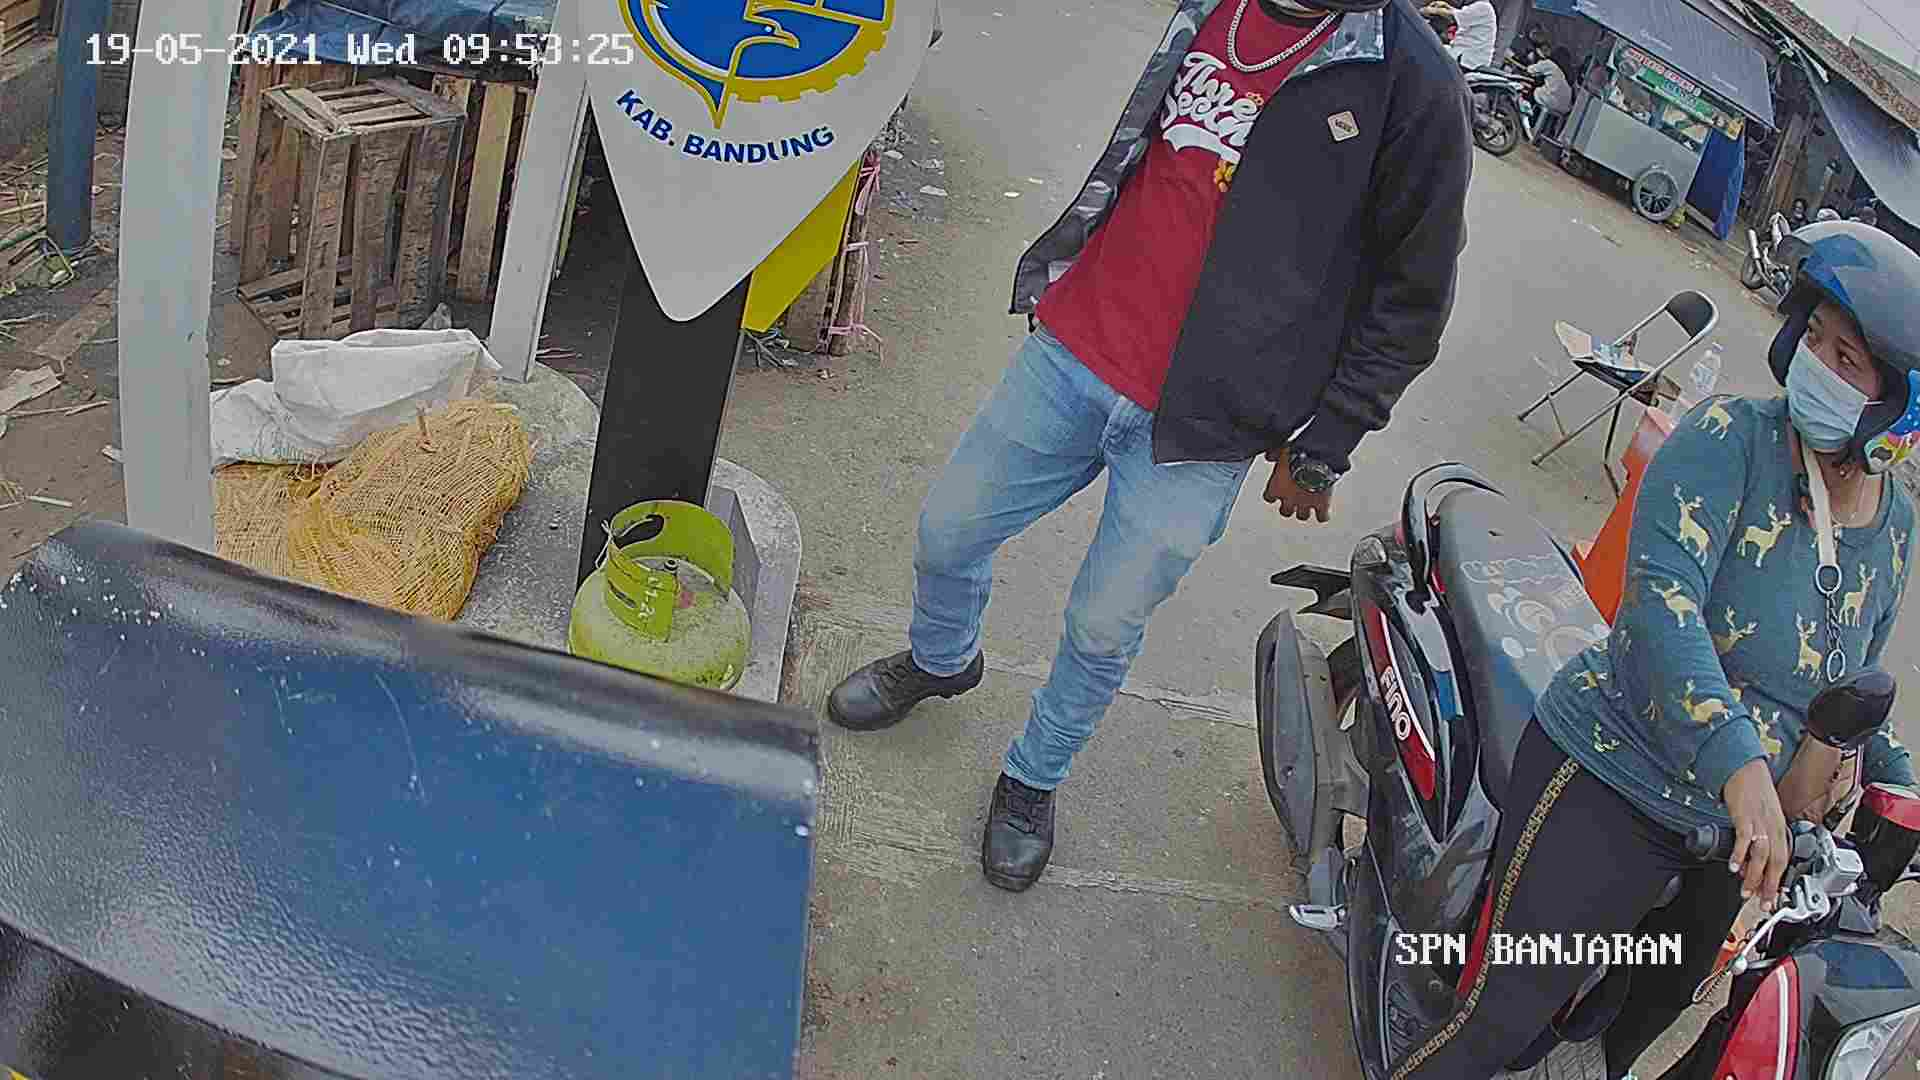motor: (1265, 463, 1920, 1080)
